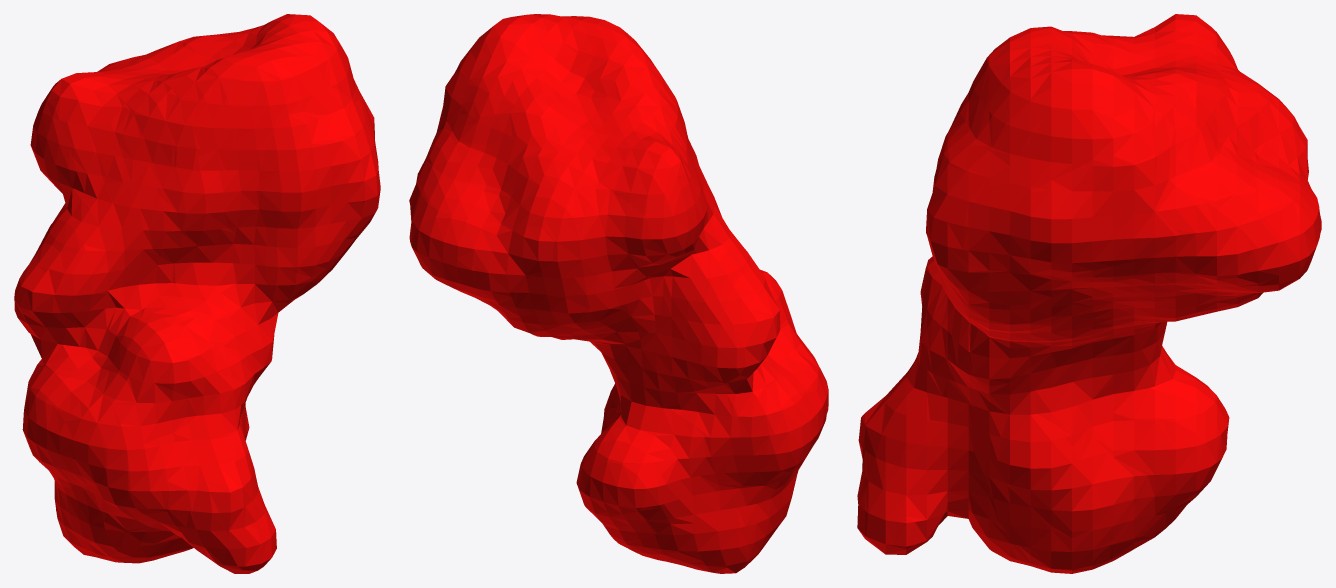
Rendered from dgoR_coarse.dae.
The picture shows the model from 3 angles, left to right: view 1: azimuth 30°, elevation 25°; view 2: azimuth 150°, elevation 25°; view 3: azimuth 270°, elevation 25°; orthographic projection. The views are drawn at different scales.
Parts seen in each view (by area): view 1: dgoR; view 2: dgoR; view 3: dgoR.
Part boxes in pixels (box(x1,y1,x2,y2)): dgoR: box(14, 14, 380, 573); dgoR: box(409, 14, 828, 573); dgoR: box(857, 14, 1321, 573).
Bounding box in the file's own units: 48.9 × 67.53 × 48.62.
